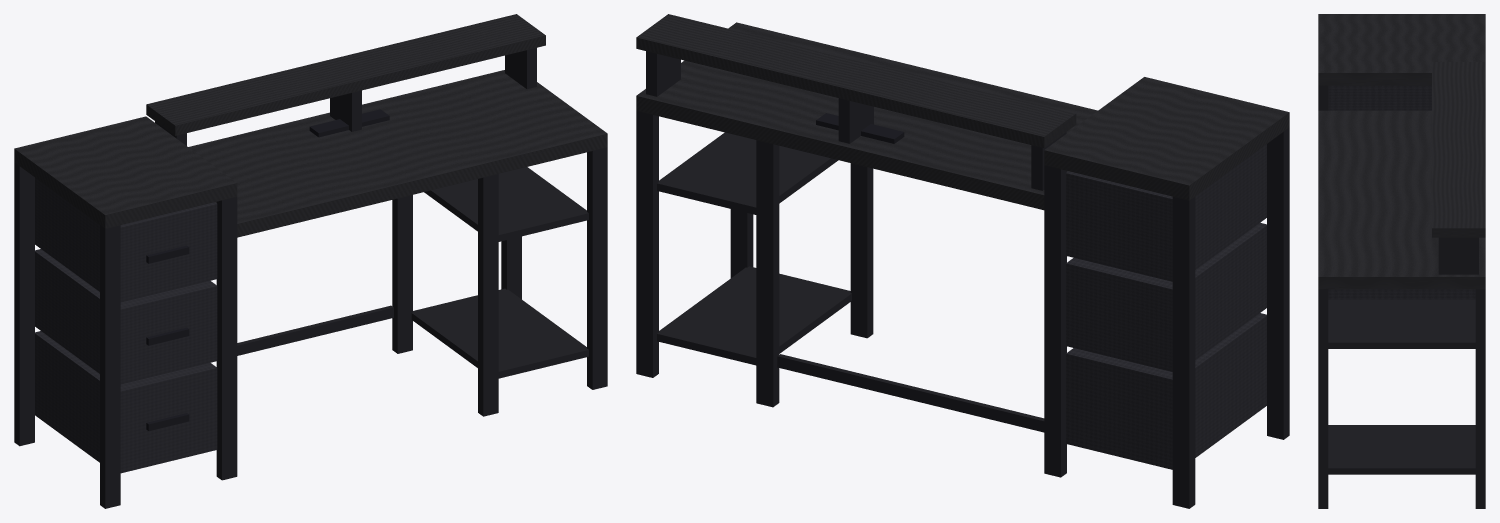
The picture shows the model from 3 angles, left to right: view 1: azimuth 30°, elevation 25°; view 2: azimuth 150°, elevation 25°; view 3: azimuth 270°, elevation 25°; orthographic projection. The views are drawn at different scales.
Parts seen in each view (by area): view 1: 12 main_desktop, 1 cabinet_top, 13 monitor_stand, 8 drawer_bottom, 7 drawer_middle, 6 drawer_top, 23 cpu_shelf_bottom, 4 cabinet_frame_right_front, 2 cabinet_frame_left_front, 22 cpu_shelf_top, 3 cabinet_frame_left_back, 18 leg_mid_front (+7 smaller); view 2: 12 main_desktop, 1 cabinet_top, 13 monitor_stand, 8 drawer_bottom, 7 drawer_middle, 6 drawer_top, 23 cpu_shelf_bottom, 3 cabinet_frame_left_back, 22 cpu_shelf_top, 2 cabinet_frame_left_front, 5 cabinet_frame_right_back, 19 leg_mid_back (+7 smaller); view 3: 12 main_desktop, 1 cabinet_top, 13 monitor_stand, 22 cpu_shelf_top, 23 cpu_shelf_bottom, 6 drawer_top, 20 leg_right_front, 21 leg_right_back, 8 drawer_bottom, 16 monitor_riser_right, 4 cabinet_frame_right_front.
Part boxes in pixels (x1,y1,x2,y2): 12 main_desktop: [188, 70, 607, 237]; 1 cabinet_top: [14, 116, 237, 228]; 13 monitor_stand: [146, 14, 545, 135]; 8 drawer_bottom: [35, 331, 217, 473]; 7 drawer_middle: [35, 249, 217, 384]; 6 drawer_top: [35, 177, 217, 302]; 23 cpu_shelf_bottom: [411, 288, 588, 378]; 4 cabinet_frame_right_front: [216, 197, 237, 480]; 2 cabinet_frame_left_front: [100, 225, 120, 508]; 22 cpu_shelf_top: [424, 167, 588, 241]; 3 cabinet_frame_left_back: [14, 162, 34, 446]; 18 leg_mid_front: [478, 174, 498, 416]; 12 main_desktop: [636, 22, 1097, 210]; 1 cabinet_top: [1044, 77, 1289, 200]; 13 monitor_stand: [636, 14, 1076, 147]; 8 drawer_bottom: [1066, 313, 1266, 469]; 7 drawer_middle: [1066, 222, 1266, 371]; 6 drawer_top: [1066, 144, 1266, 281]; 23 cpu_shelf_bottom: [657, 266, 851, 365]; 3 cabinet_frame_left_back: [1172, 196, 1195, 508]; 22 cpu_shelf_top: [657, 132, 838, 214]; 2 cabinet_frame_left_front: [1267, 127, 1289, 439]; 5 cabinet_frame_right_back: [1044, 165, 1066, 477]; 19 leg_mid_back: [756, 140, 779, 407]; 12 main_desktop: [1318, 110, 1485, 289]; 1 cabinet_top: [1318, 14, 1485, 85]; 13 monitor_stand: [1432, 62, 1485, 237]; 22 cpu_shelf_top: [1328, 299, 1475, 348]; 23 cpu_shelf_bottom: [1328, 425, 1475, 474]; 6 drawer_top: [1328, 85, 1431, 110]; 20 leg_right_front: [1318, 289, 1328, 508]; 21 leg_right_back: [1475, 289, 1485, 508]; 8 drawer_bottom: [1328, 289, 1475, 299]; 16 monitor_riser_right: [1438, 237, 1478, 274]; 4 cabinet_frame_right_front: [1318, 85, 1328, 110].
Bounding box in the file's own units: 1.72 × 1 × 0.54.
Materials: 5 (2 with a texture image).
